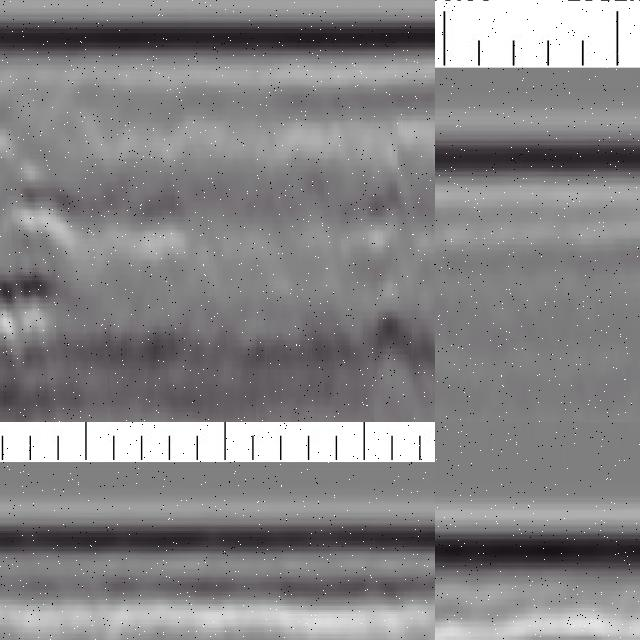loose: (1, 139, 115, 396)
